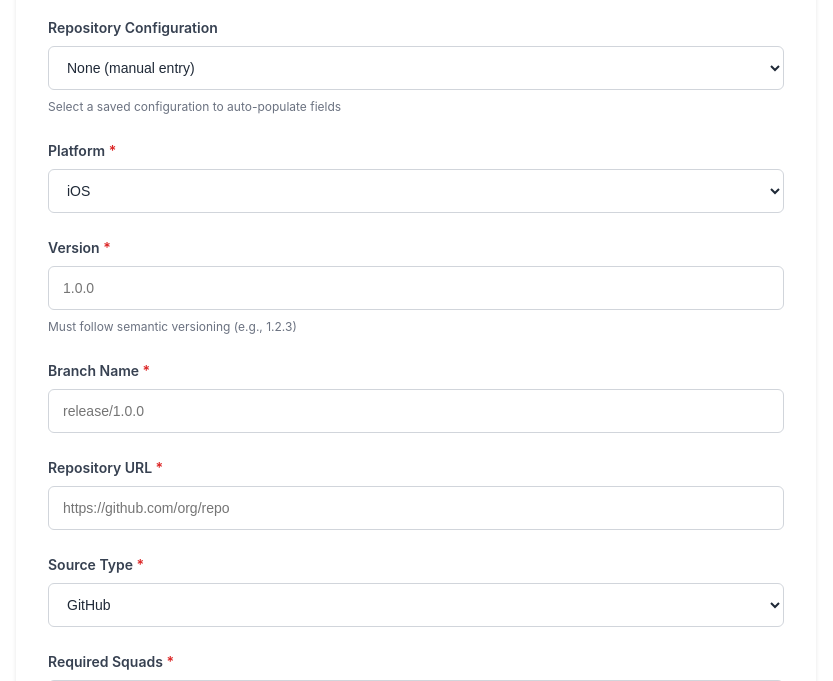
CreateReleaseForm › config integration › populates fields when a config is selected
Select "My App Config" in the dropdown labelled "Repository Configuration" at (416, 68), box [48,46,784,90]
(page scrolled)
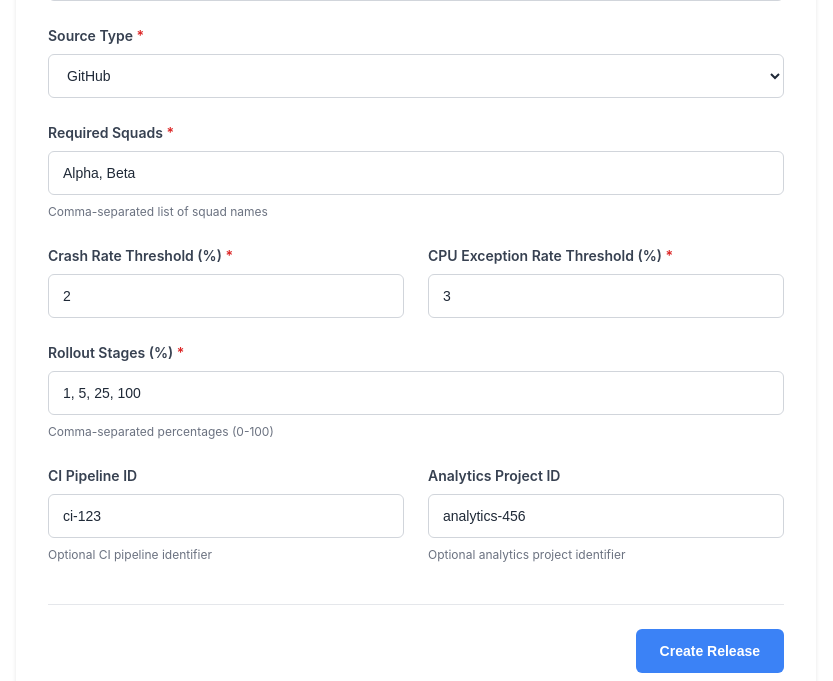
Check: the field labelled "Required Squads *" holds "Alpha, Beta", box [48,151,784,195]
Check: the number field labelled "Crash Rate Threshold (%) *" holds "2", box [48,274,404,318]
Check: the number field labelled "CPU Exception Rate Threshold (%) *" holds "3", box [428,274,784,318]
